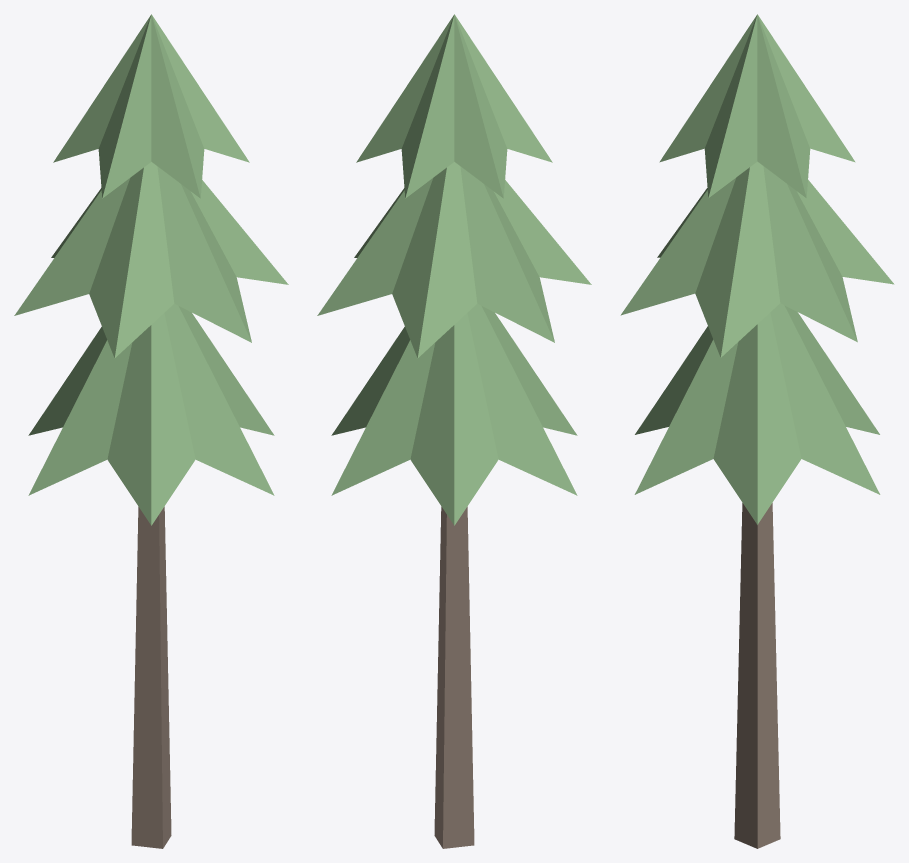
The model's file is tree-pine-a-far.glb.
3 views of the same model, side by side, from view 1: azimuth 30°, elevation 25°; view 2: azimuth 150°, elevation 25°; view 3: azimuth 270°, elevation 25° (orthographic).
Parts seen in each view (by area): view 1: tree-pine-a-far; view 2: tree-pine-a-far; view 3: tree-pine-a-far.
Part boxes in pixels (x1,y1,x2,y2): tree-pine-a-far: (14, 14, 288, 848); tree-pine-a-far: (317, 14, 591, 848); tree-pine-a-far: (620, 14, 894, 848).
Size of the model in its own units: 0.312 by 1 by 0.3014.
